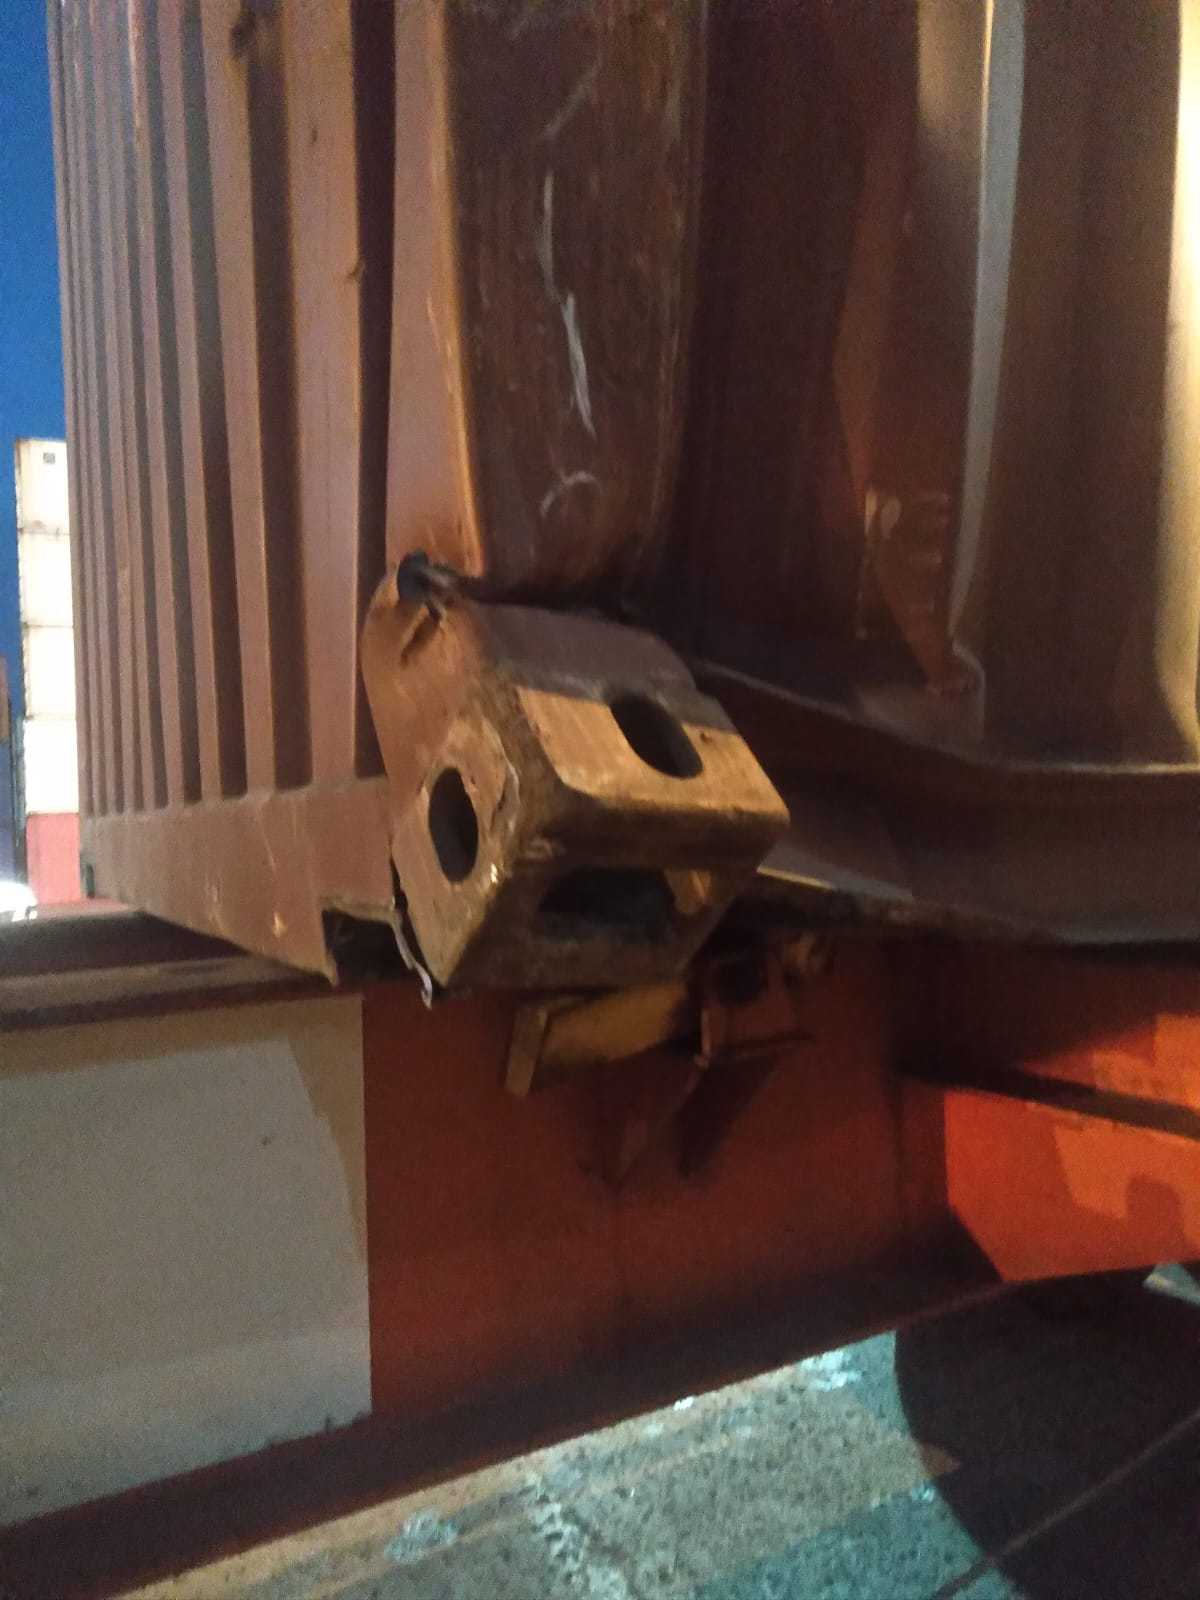dented: (350, 278, 950, 957)
